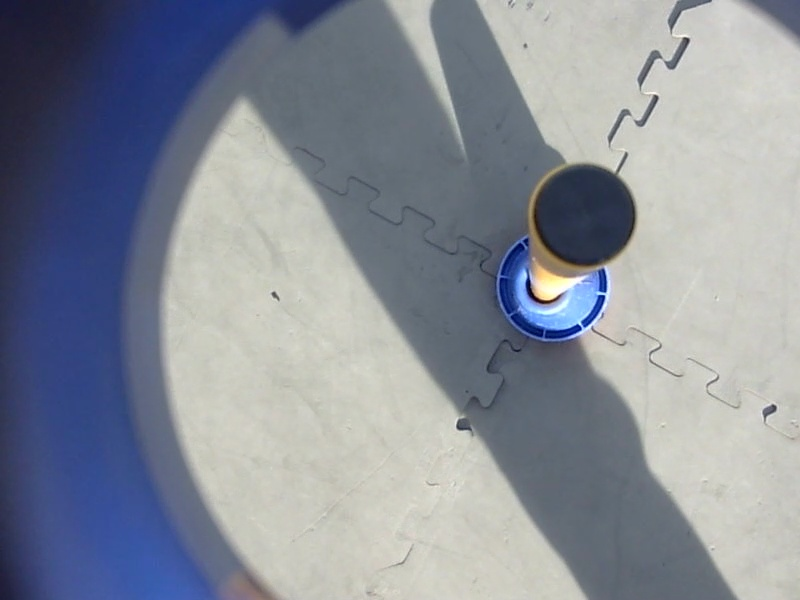tip: (523, 157, 645, 273)
